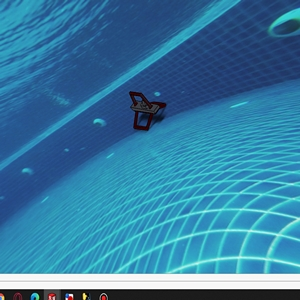submarine: (131, 91, 169, 133)
